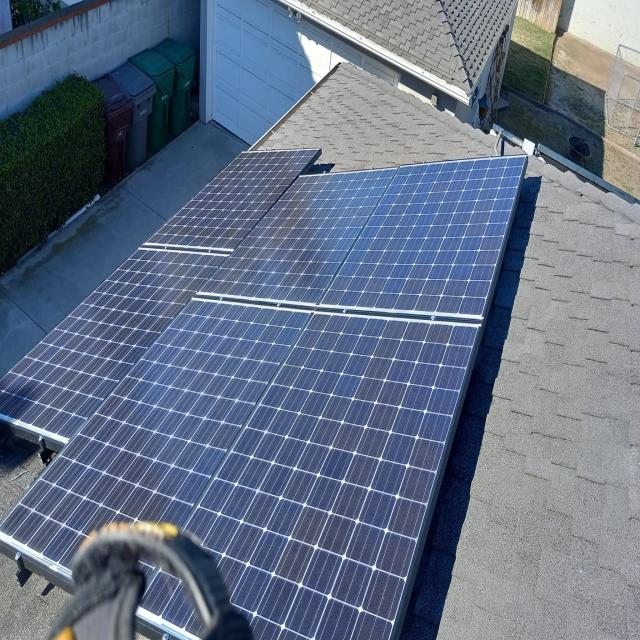clean-solar-panel: (0, 149, 526, 638)
